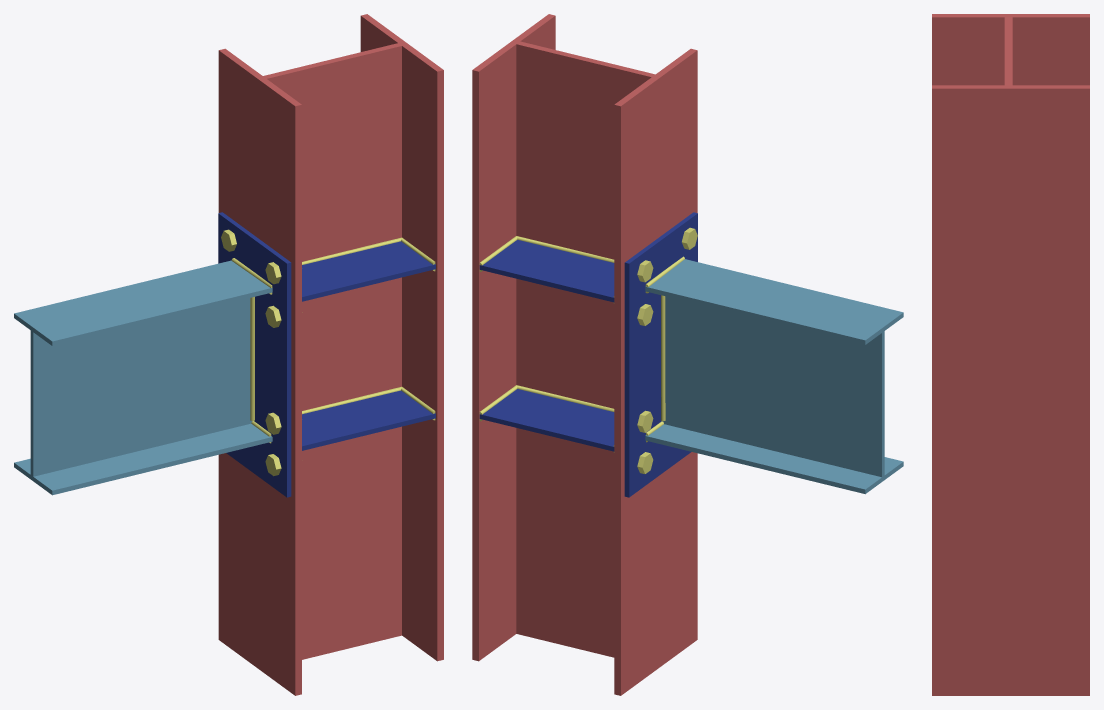
The model's file is steel junt.glb.
The picture shows the model from 3 angles, left to right: view 1: azimuth 30°, elevation 25°; view 2: azimuth 150°, elevation 25°; view 3: azimuth 270°, elevation 25°; orthographic projection. The views are drawn at different scales.
Parts seen in each view (by area): view 1: Box008, Box004, Box006, Object002, Object001; view 2: Box008, Box004, Box006, Object002, Object001; view 3: Box008.
Boxes of the visible parts, x1=… form: Box008: x1=218, y1=14, x2=443, y2=695; Box004: x1=14, y1=260, x2=272, y2=495; Box006: x1=218, y1=212, x2=291, y2=497; Object002: x1=302, y1=390, x2=435, y2=450; Object001: x1=302, y1=241, x2=435, y2=301; Box008: x1=472, y1=14, x2=697, y2=695; Box004: x1=645, y1=259, x2=903, y2=494; Box006: x1=624, y1=212, x2=697, y2=497; Object002: x1=479, y1=389, x2=614, y2=451; Object001: x1=479, y1=240, x2=614, y2=302; Box008: x1=932, y1=14, x2=1089, y2=695.
Size of the model in its own units: 2.14 by 3.24 by 0.762.
